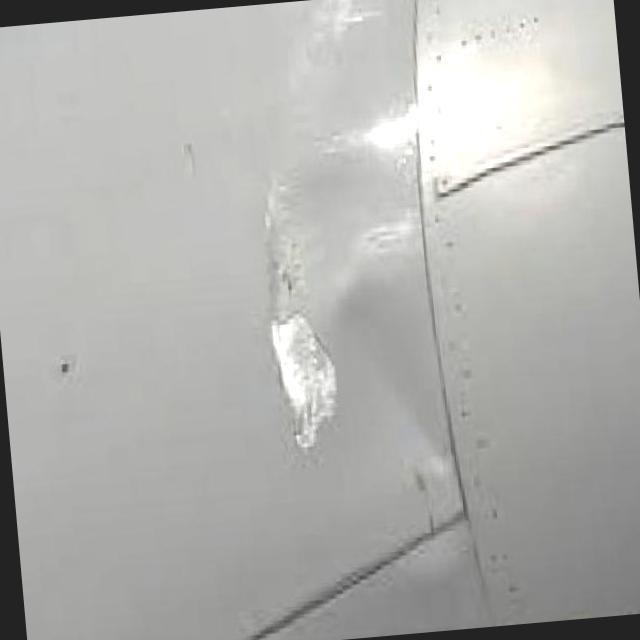dent: (250, 119, 352, 463)
